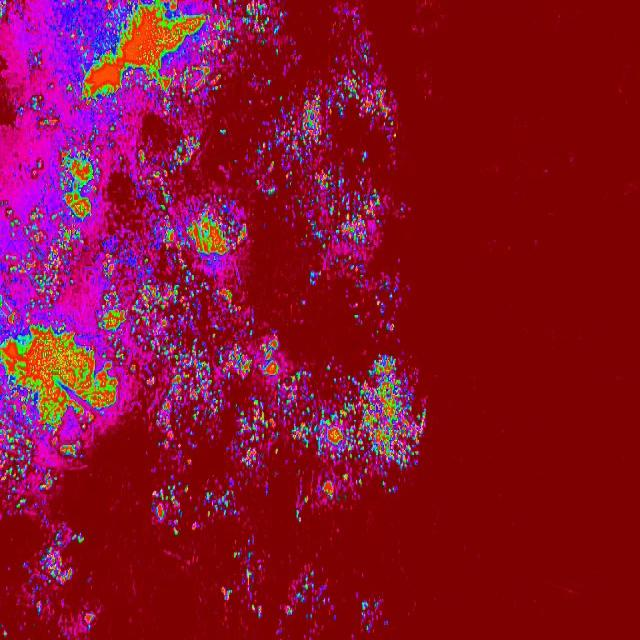fire: (137, 257, 302, 473), (266, 76, 414, 272), (293, 353, 447, 524), (214, 539, 397, 640), (74, 0, 235, 108), (0, 328, 126, 458), (0, 200, 86, 328), (150, 192, 260, 260), (142, 478, 242, 538), (134, 134, 203, 210), (0, 435, 63, 517), (34, 526, 86, 592), (57, 147, 102, 223), (97, 289, 137, 342), (235, 0, 285, 41), (348, 298, 397, 339), (32, 94, 60, 128), (353, 34, 380, 64), (99, 250, 119, 280), (84, 611, 96, 630), (34, 599, 44, 616)
